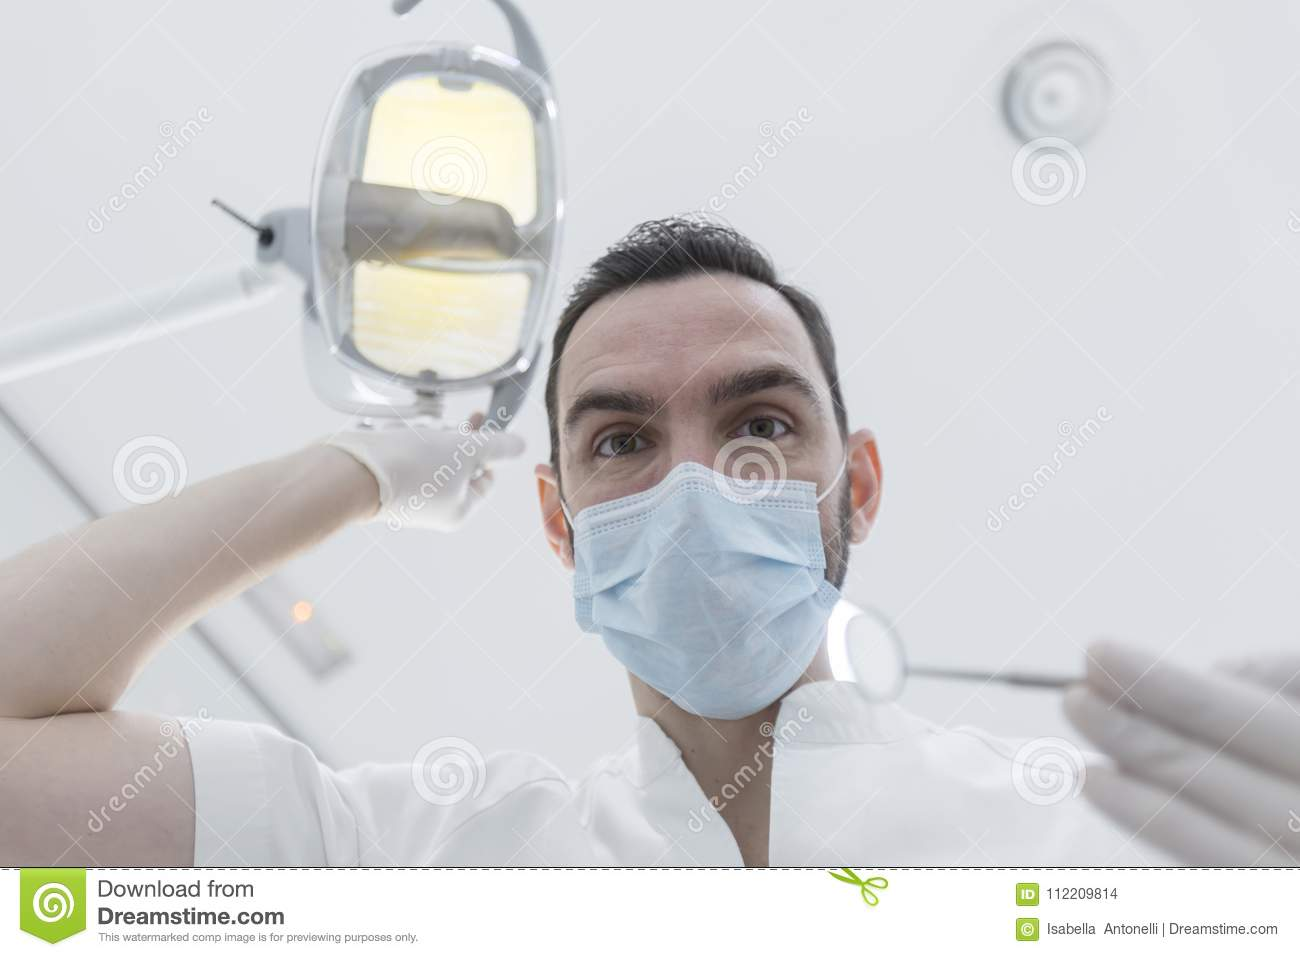mask: (553, 470, 854, 724)
